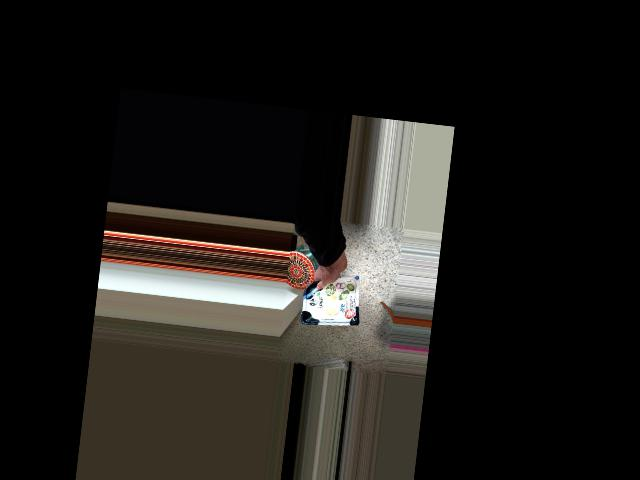cheese: (302, 253, 366, 318)
